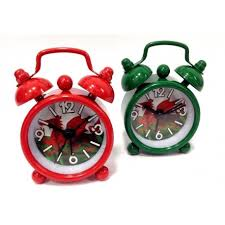alarm_clock: (16, 46, 112, 180)
